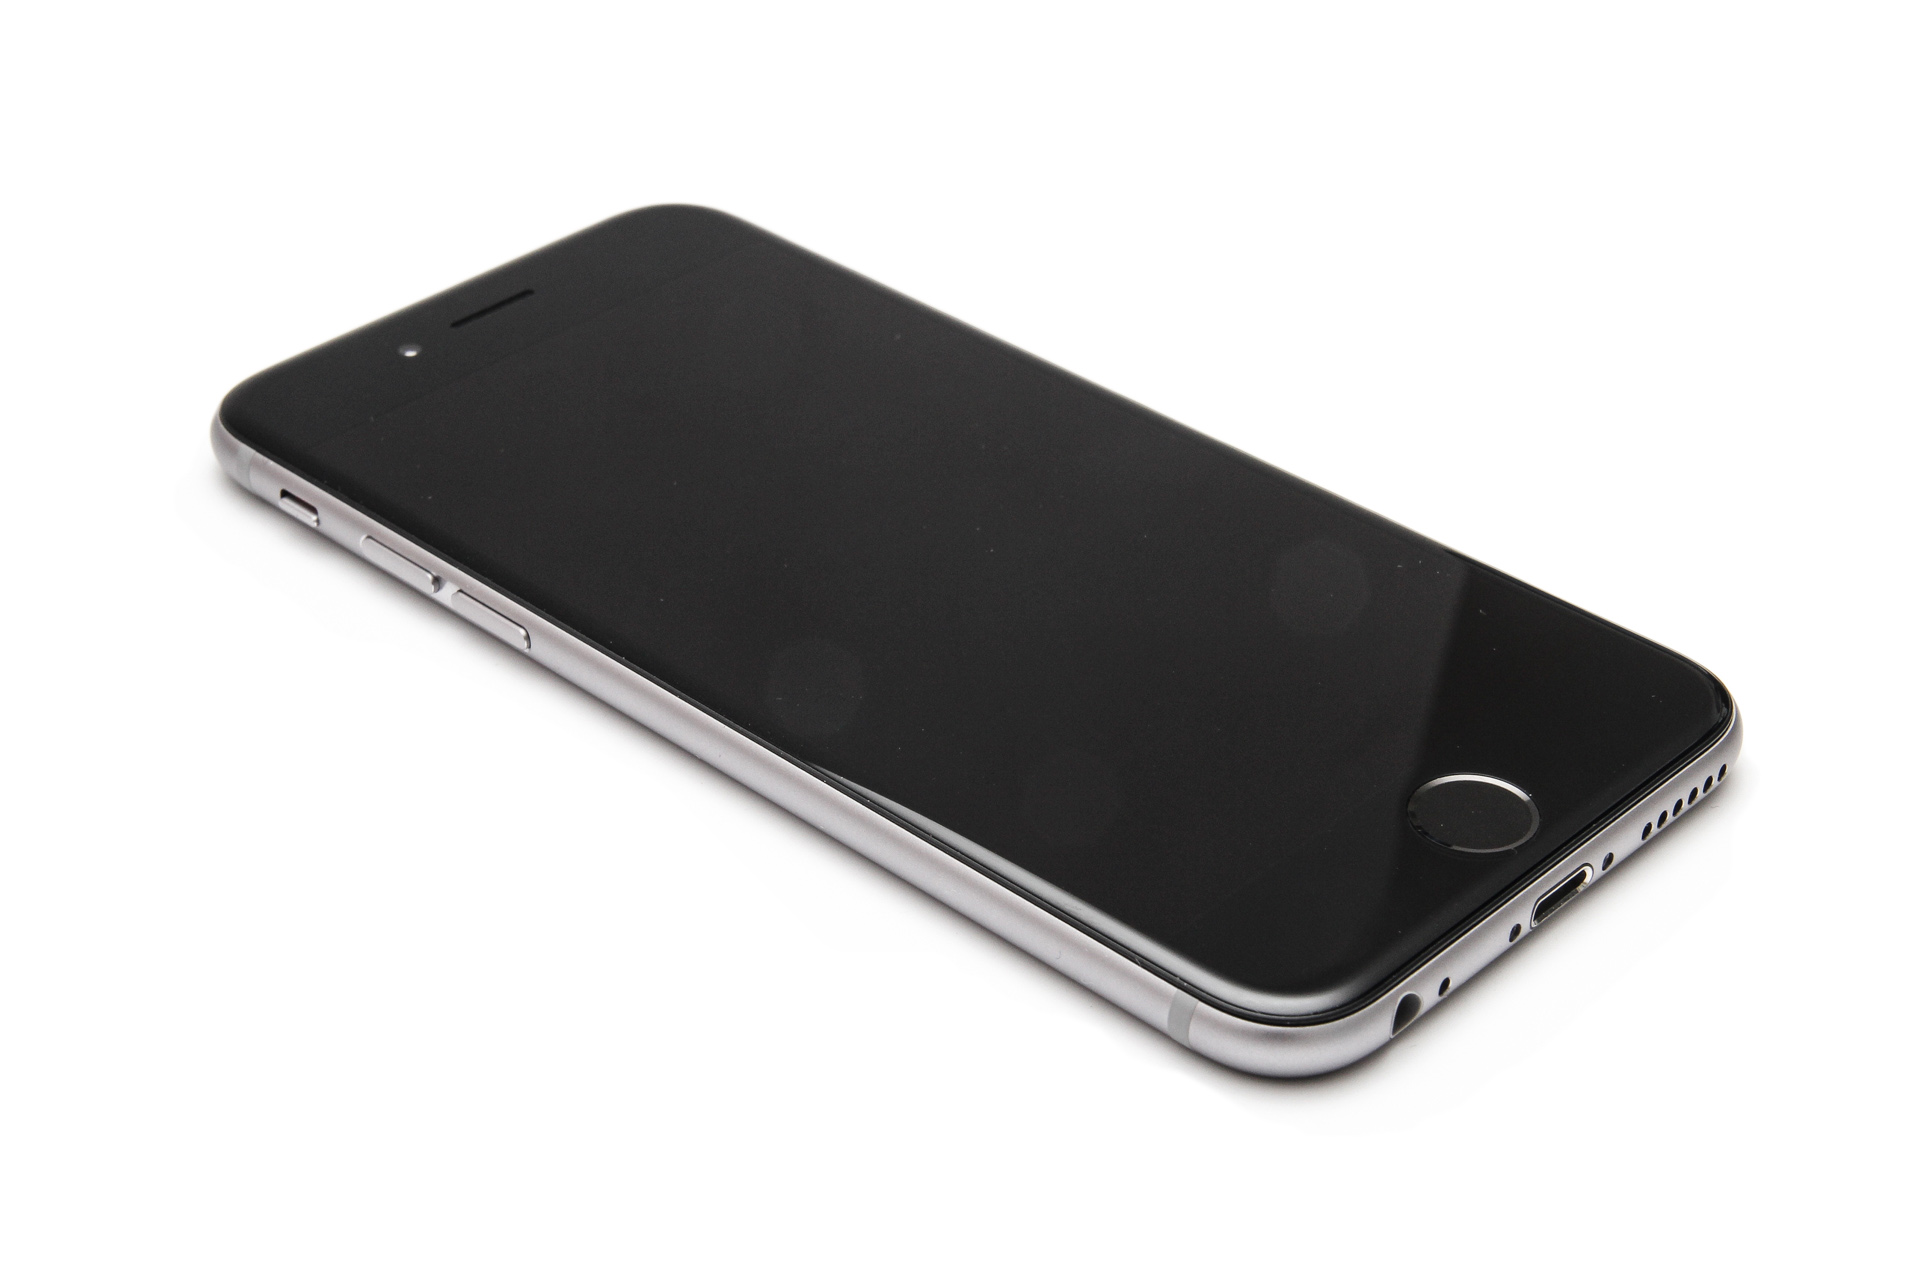smartphone: (210, 201, 1743, 1084)
